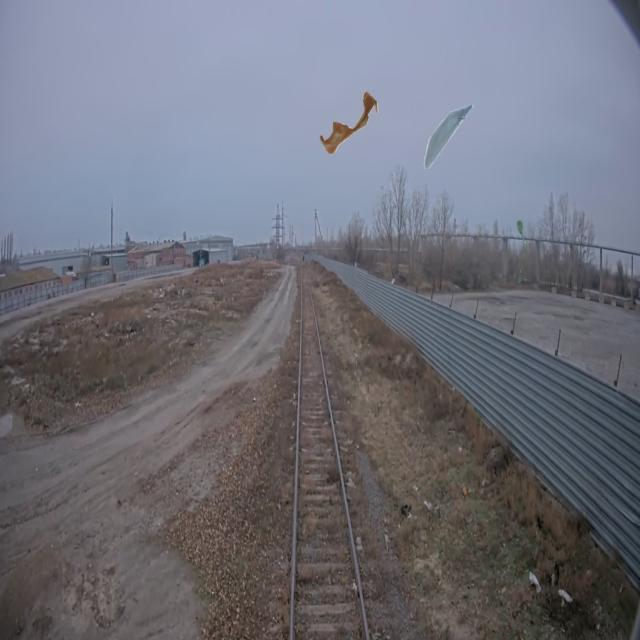floating object: (320, 90, 378, 154), (422, 105, 473, 169), (517, 218, 526, 282)
